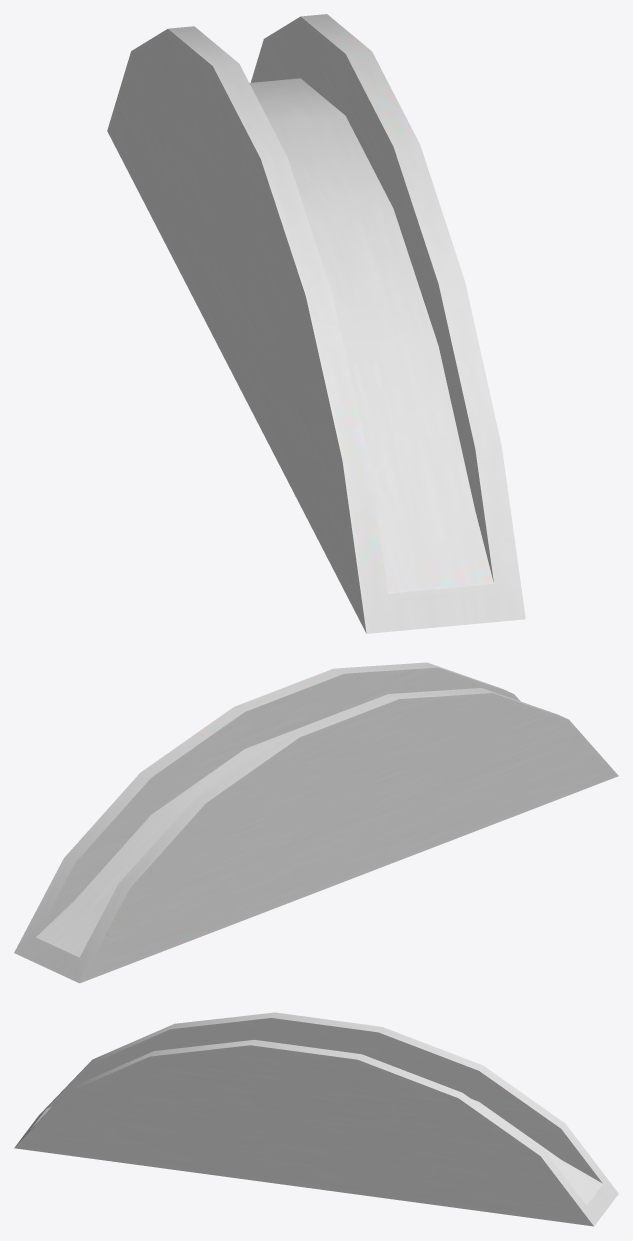
File: tool_pipe_bender_crossbow_nozzle_05.glb
3 views of the same model, one above another, from view 1: azimuth 30°, elevation 25°; view 2: azimuth 150°, elevation 25°; view 3: azimuth 270°, elevation 25° (orthographic). The views are drawn at different scales.
Parts seen in each view (by area): view 1: tool_pipe_bender_crossbow_nozzle_05; view 2: tool_pipe_bender_crossbow_nozzle_05; view 3: tool_pipe_bender_crossbow_nozzle_05.
Part boxes in pixels (x1=…): tool_pipe_bender_crossbow_nozzle_05: x1=107, y1=14, x2=525, y2=633; tool_pipe_bender_crossbow_nozzle_05: x1=14, y1=662, x2=618, y2=983; tool_pipe_bender_crossbow_nozzle_05: x1=14, y1=1012, x2=618, y2=1226.
Size of the model in its own units: 0.1169 by 0.0662 by 0.269.
Materials: 1 (1 with a texture image).
